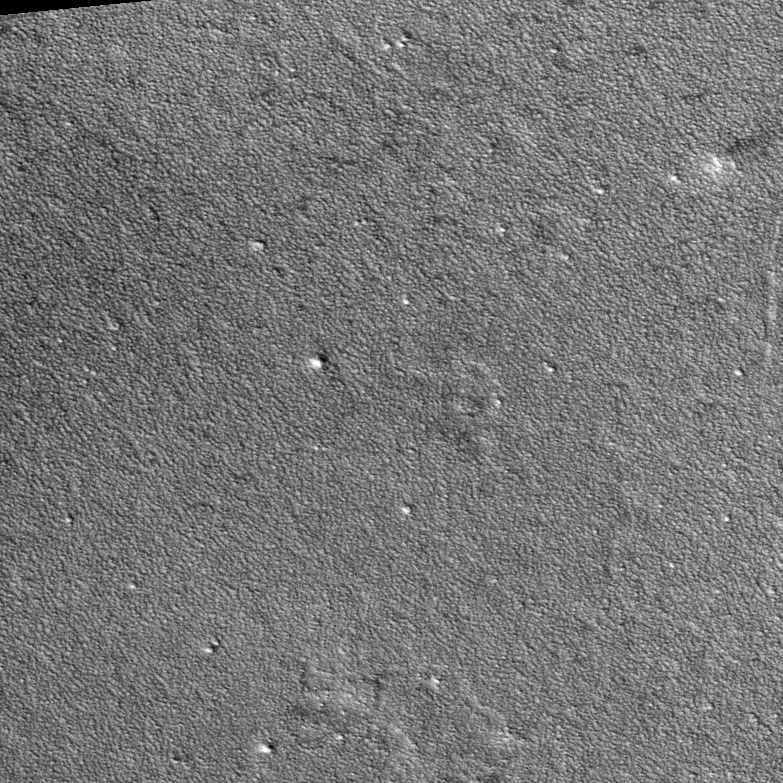dust_devil: (701, 132, 763, 176)
